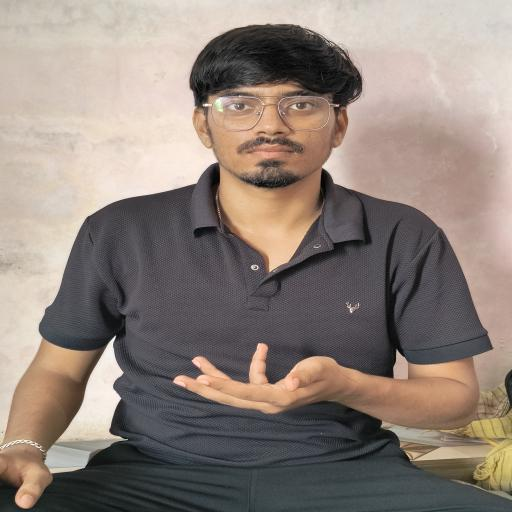Help: (165, 326, 369, 435)
